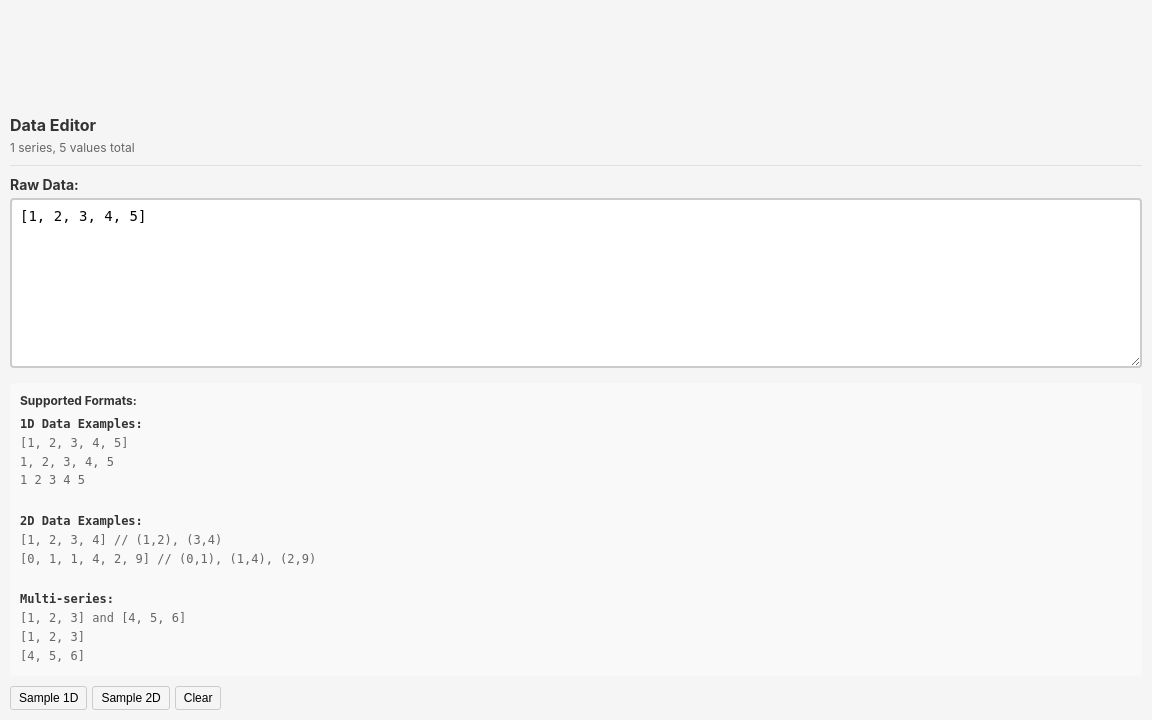
Test: DataEditor › should clear data when Clear button is clicked
(page scrolled)
Click the button "Clear".
click(198, 698)  # box [175, 686, 222, 710]
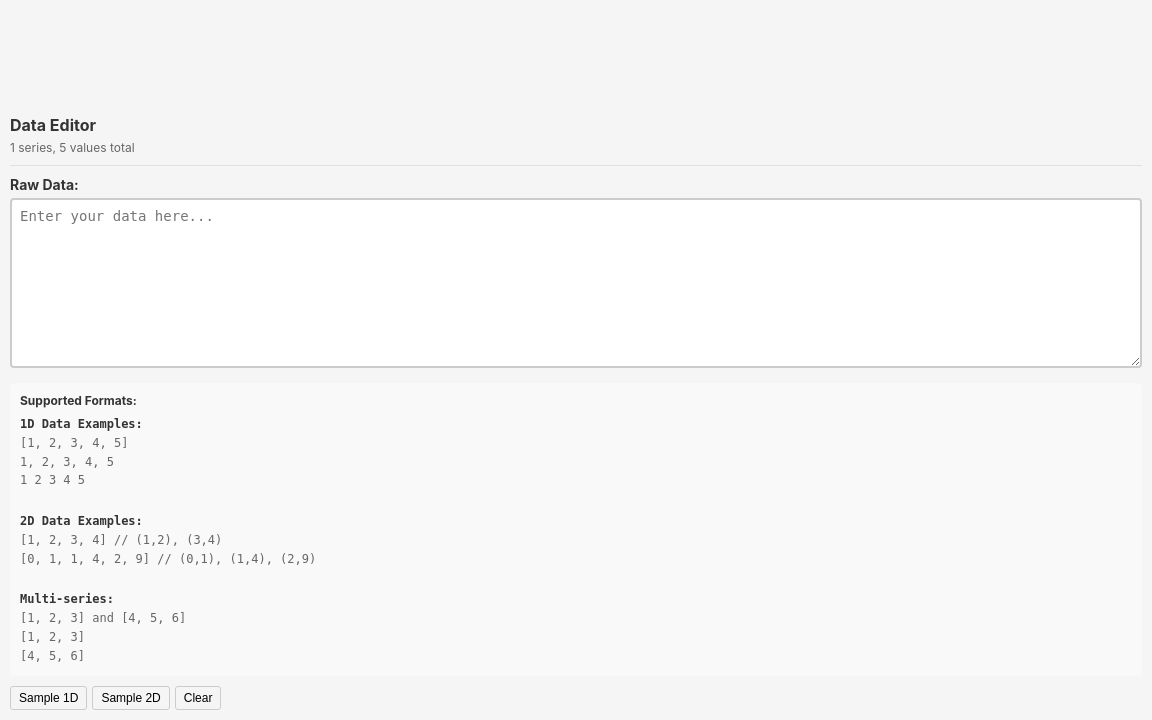
Expected: the text box with placeholder "Enter your data here..." is empty, [10, 198, 1142, 368]
